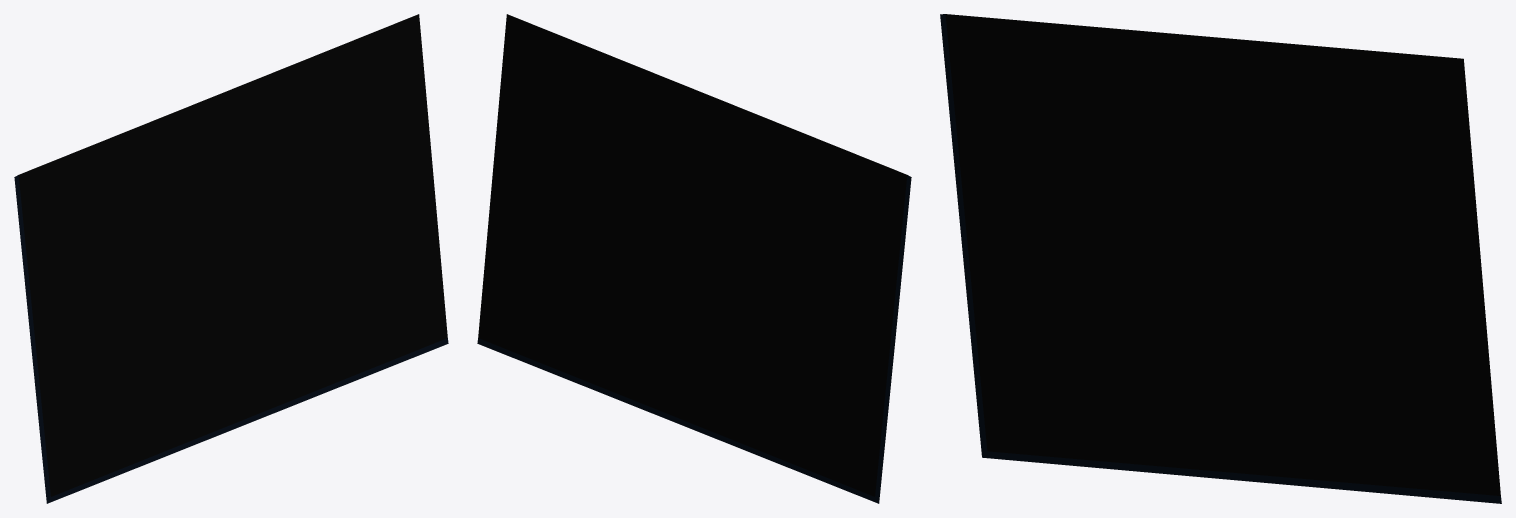
The model's file is basePhotosPicD.glb.
3 renders of one model, left to right at view 1: azimuth 30°, elevation 25°; view 2: azimuth 150°, elevation 25°; view 3: azimuth 330°, elevation 25°, orthographic. The views are drawn at different scales.
Visible parts, largest first — view 1: basePhotosPicD; view 2: basePhotosPicD; view 3: basePhotosPicD.
Boxes of the visible parts, x1=… form: basePhotosPicD: x1=14, y1=14, x2=448, y2=503; basePhotosPicD: x1=477, y1=14, x2=911, y2=503; basePhotosPicD: x1=940, y1=14, x2=1501, y2=503.
Size of the model in its own units: 0.5095 by 0.4476 by 0.
